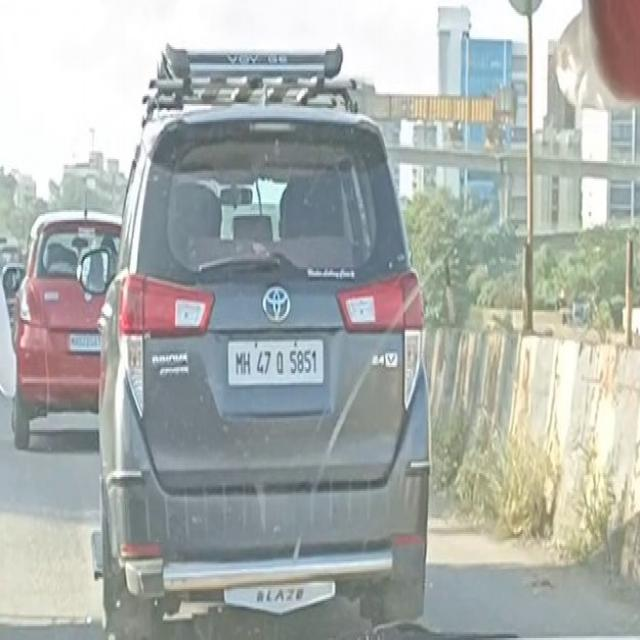Plate: (227, 337, 325, 386)
